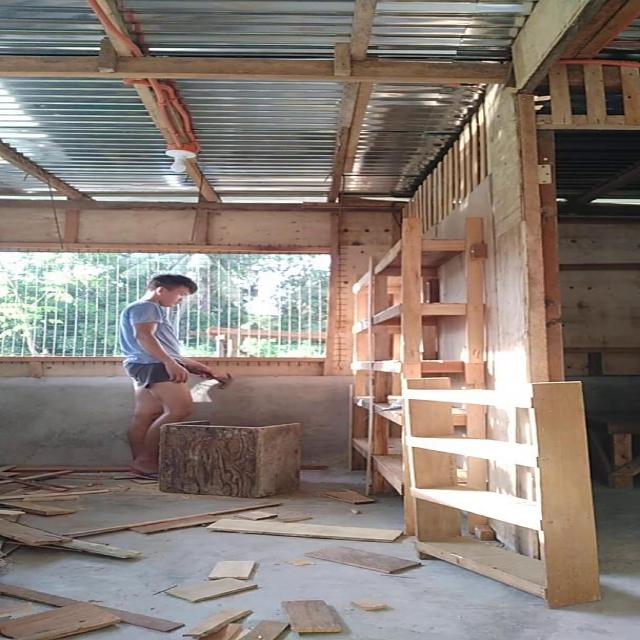hammer: (184, 367, 233, 389)
